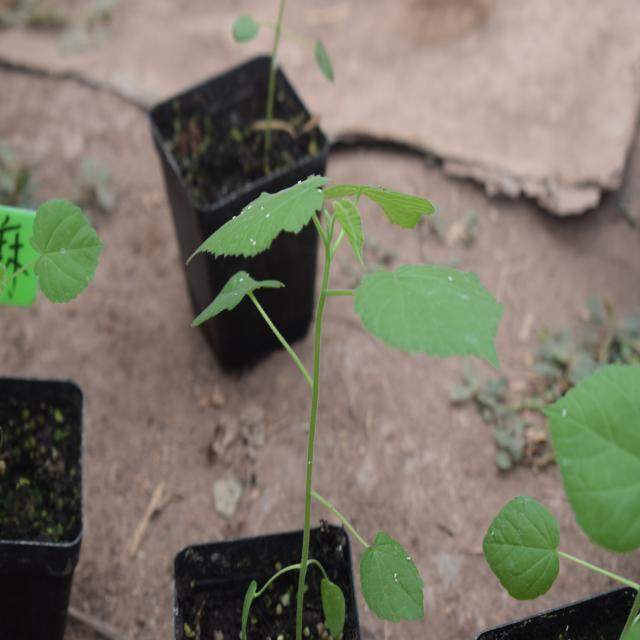abutilon theophrasti: (205, 125, 497, 581)
